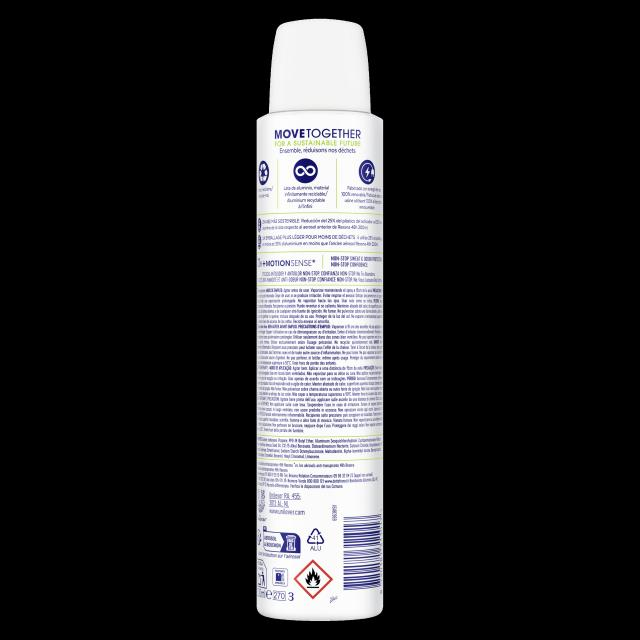GHS_Symbol_FLAME: (293, 559, 333, 599)
